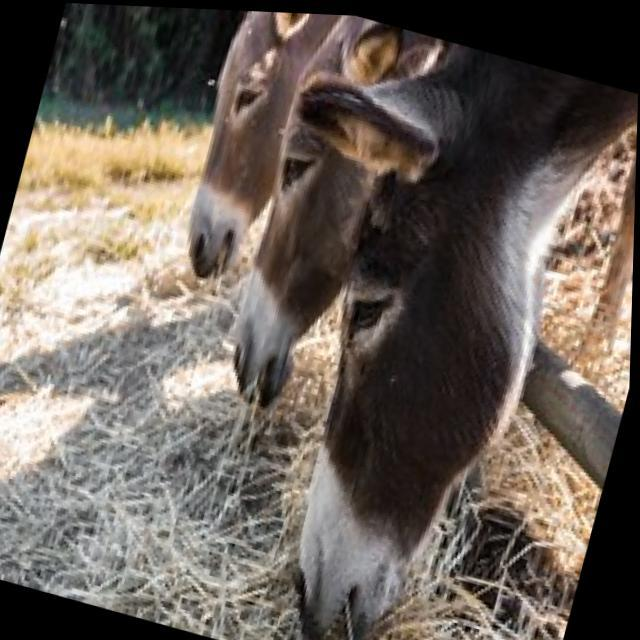Donkey: (228, 13, 640, 640), (193, 7, 493, 460), (122, 4, 450, 407)
